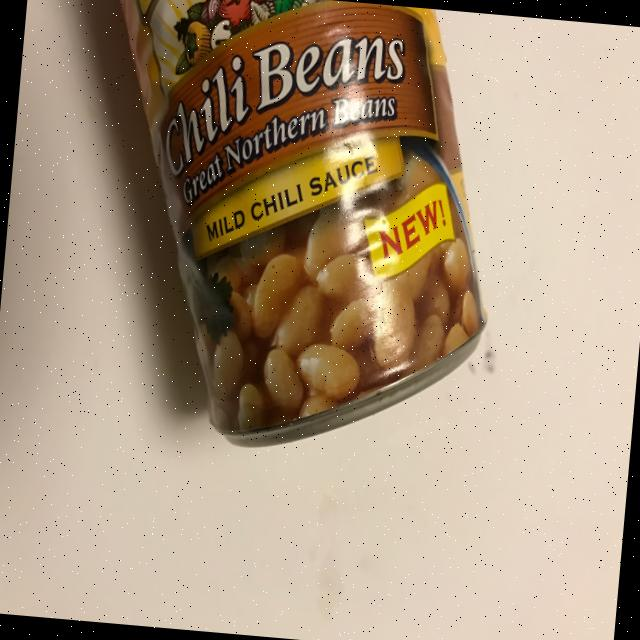metal: (77, 0, 514, 467)
